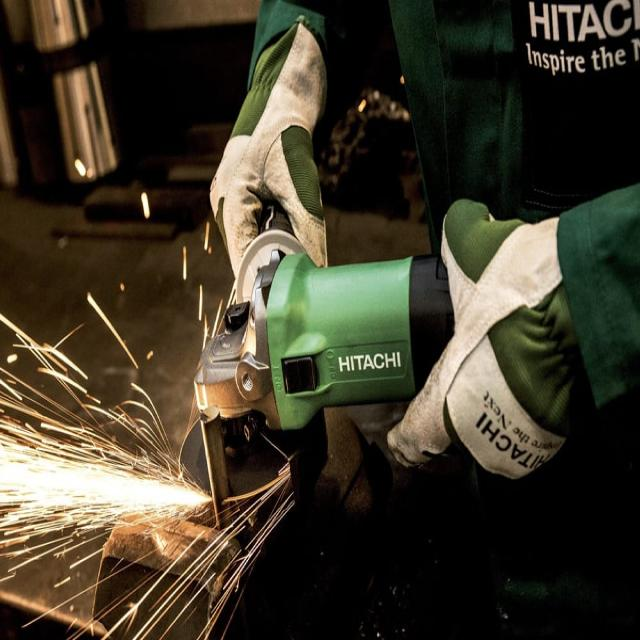gloves: (385, 195, 590, 483), (207, 0, 327, 301)
